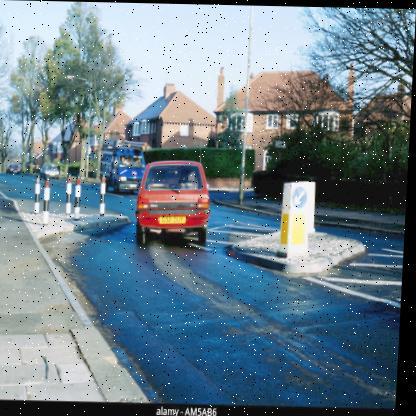Keep left: (291, 186, 313, 211)
